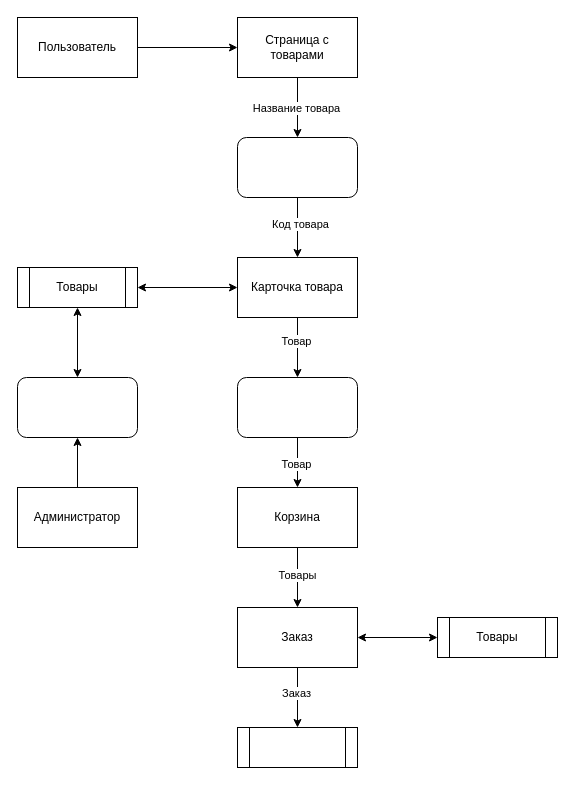
This 575x785 diagram has some shape labels left out. Each missing label, with the centre of its shape:
"Выбор нужного товара" goes at (297,167).
"Добавление товара в корзину" goes at (297,407).
"Заказы" goes at (297,747).
"Управление товарами" goes at (77,407).
